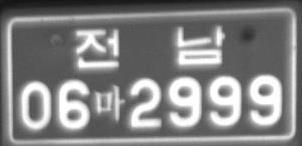0: (20, 79, 53, 130)
2: (130, 76, 162, 129)
6: (58, 79, 92, 128)
9: (248, 72, 283, 126), (167, 75, 202, 128), (208, 75, 243, 125)
마: (94, 84, 125, 121)
전남_D: (75, 24, 225, 69)
